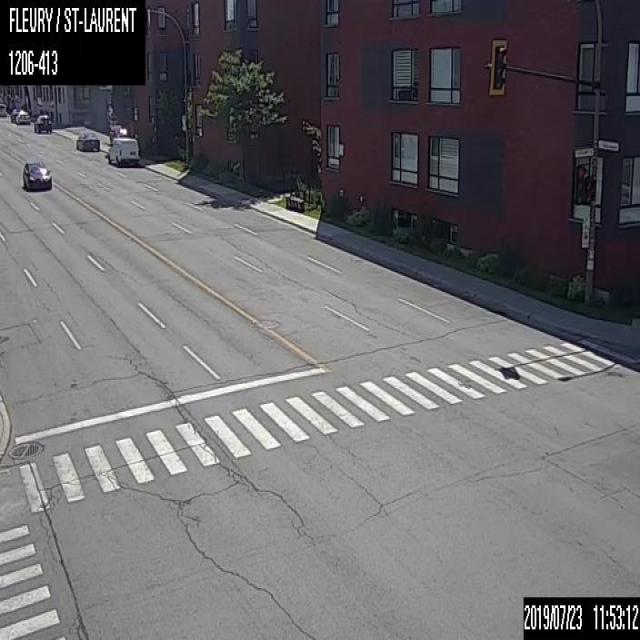vehicle: (22, 157, 51, 192), (107, 135, 138, 165), (76, 128, 99, 151), (34, 112, 52, 133), (15, 108, 30, 124), (0, 102, 5, 116)
